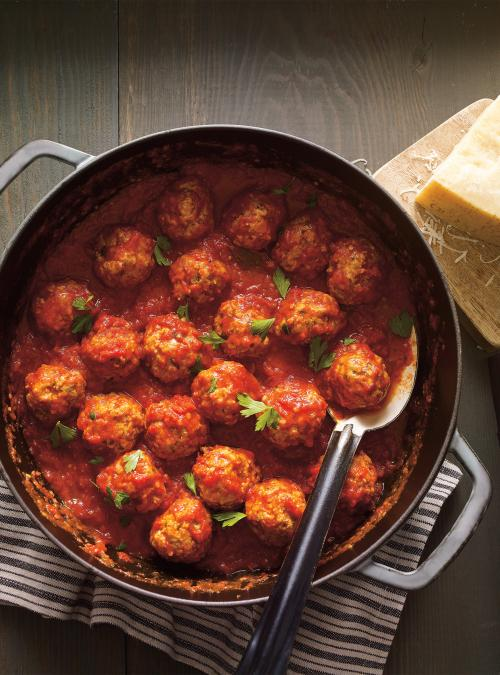meatballs: (20, 174, 417, 570)
